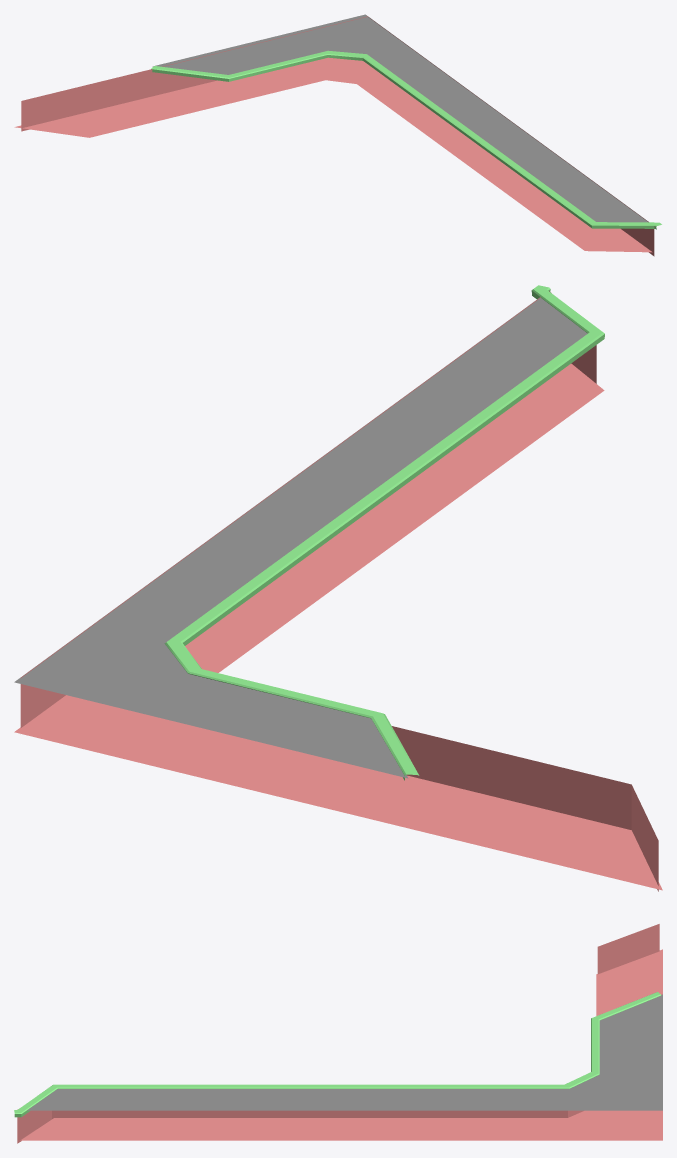
Rendered from S_Envi_Umeda_Base_Ground_02d.gltf.
3 renders of one model, top to bottom at view 1: azimuth 30°, elevation 25°; view 2: azimuth 150°, elevation 25°; view 3: azimuth 270°, elevation 25°, orthographic. The views are drawn at different scales.
Parts seen in each view (by area): view 1: S_Envi_Umeda_Base_Ground_02d; view 2: S_Envi_Umeda_Base_Ground_02d; view 3: S_Envi_Umeda_Base_Ground_02d.
Part boxes in pixels (bbox=[...]): S_Envi_Umeda_Base_Ground_02d: bbox=[14, 14, 661, 256]; S_Envi_Umeda_Base_Ground_02d: bbox=[14, 285, 662, 891]; S_Envi_Umeda_Base_Ground_02d: bbox=[14, 924, 662, 1143].
Bounding box in the file's own units: 7.87 × 0.6515 × 11.05.
